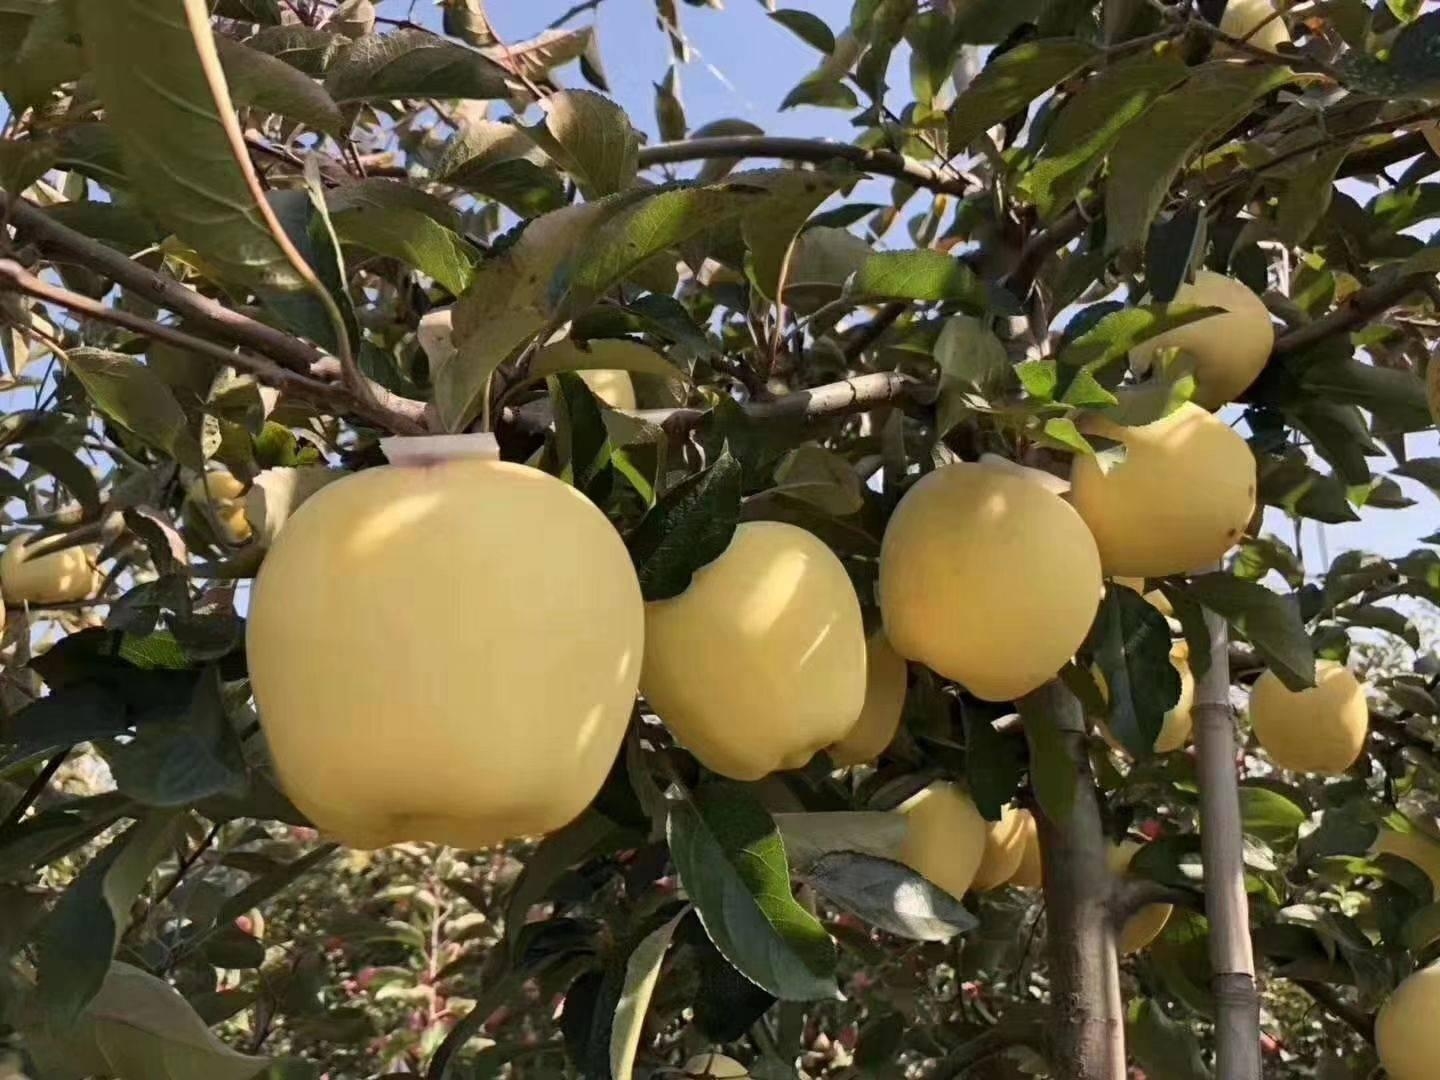apple: (246, 454, 646, 859), (637, 516, 870, 787), (883, 461, 1102, 701), (1069, 398, 1259, 582), (1130, 269, 1272, 408), (1242, 652, 1369, 779)
